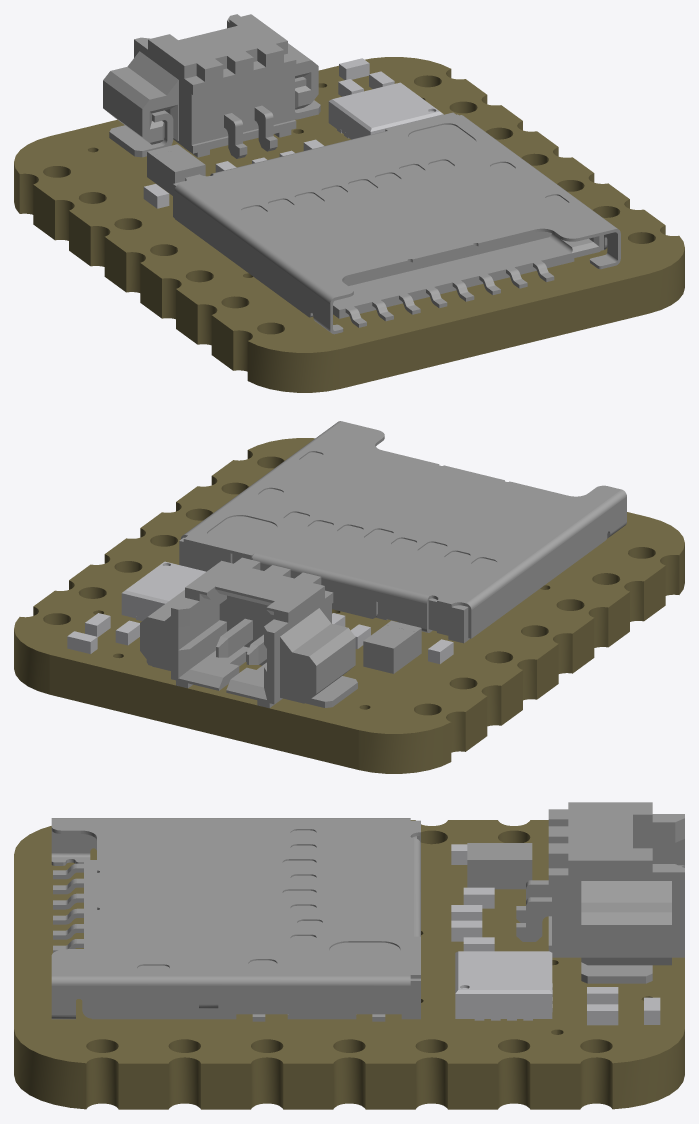
Rendered from ada-5769.glb.
3 renders of one model, top to bottom at view 1: azimuth 30°, elevation 25°; view 2: azimuth 150°, elevation 25°; view 3: azimuth 270°, elevation 25°, orthographic. The views are drawn at different scales.
Visible parts, largest first — view 1: 0.3333333333333333_0.3333333333333333_0.3333333333333333_0, 0.16666666666666666_0.16666666666666666_0.08333333333333333_, 0.5833333333333334_0.5833333333333334_0.5833333333333334_0.8; view 2: 0.3333333333333333_0.3333333333333333_0.3333333333333333_0, 0.16666666666666666_0.16666666666666666_0.08333333333333333_, 0.5833333333333334_0.5833333333333334_0.5833333333333334_0.8; view 3: 0.3333333333333333_0.3333333333333333_0.3333333333333333_0, 0.16666666666666666_0.16666666666666666_0.08333333333333333_, 0.5833333333333334_0.5833333333333334_0.5833333333333334_0.8.
Part boxes in pixels (x1=…): 0.3333333333333333_0.3333333333333333_0.3333333333333333_0: x1=103, y1=14, x2=620, y2=334; 0.16666666666666666_0.16666666666666666_0.08333333333333333_: x1=14, y1=57, x2=684, y2=392; 0.5833333333333334_0.5833333333333334_0.5833333333333334_0.8: x1=143, y1=58, x2=443, y2=208; 0.3333333333333333_0.3333333333333333_0.3333333333333333_0: x1=140, y1=421, x2=626, y2=708; 0.16666666666666666_0.16666666666666666_0.08333333333333333_: x1=14, y1=438, x2=684, y2=773; 0.5833333333333334_0.5833333333333334_0.5833333333333334_0.8: x1=67, y1=561, x2=453, y2=663; 0.3333333333333333_0.3333333333333333_0.3333333333333333_0: x1=51, y1=802, x2=684, y2=1021; 0.16666666666666666_0.16666666666666666_0.08333333333333333_: x1=14, y1=820, x2=684, y2=1109; 0.5833333333333334_0.5833333333333334_0.5833333333333334_0.8: x1=451, y1=844, x2=660, y2=1025.
Size of the model in its own units: 1.78 by 0.4969 by 2.07.
